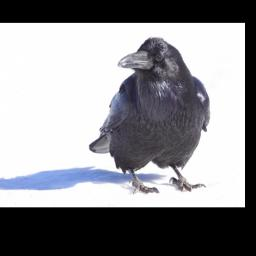Crow: (87, 35, 211, 195)
